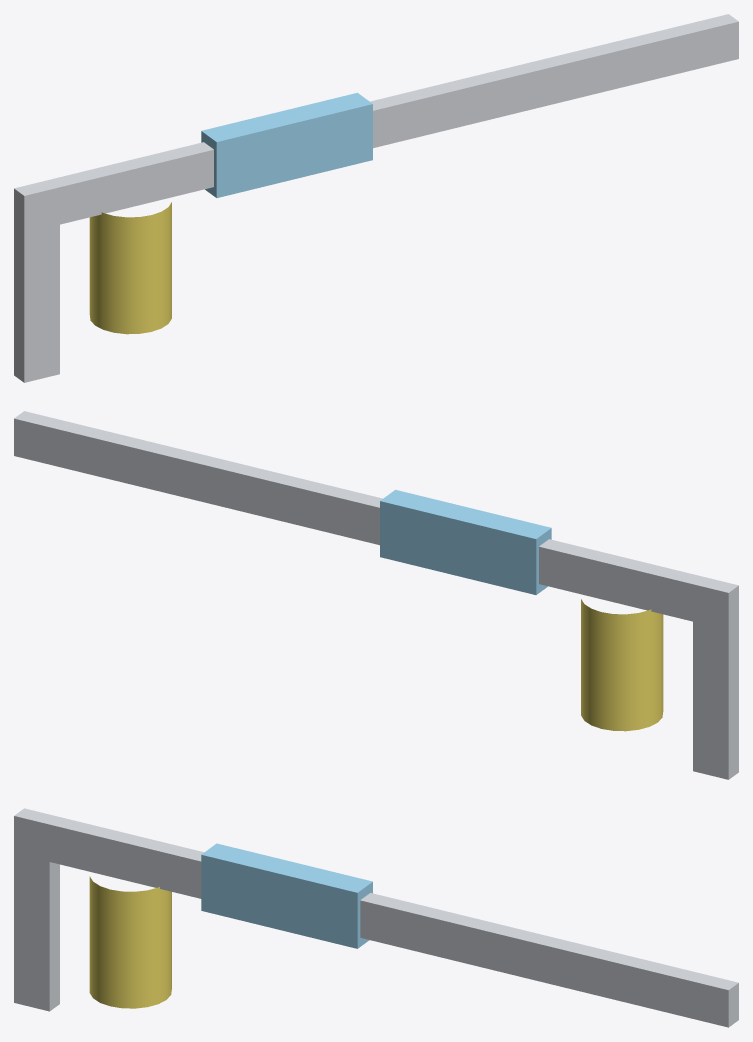
File: vernier_caliper_volume_measurement.glb
3 renders of one model, top to bottom at view 1: azimuth 30°, elevation 25°; view 2: azimuth 150°, elevation 25°; view 3: azimuth 330°, elevation 25°, orthographic.
Visible parts, largest first — view 1: StainlessSteelMainScaleBeam, SlidingVernierScaleSlider, TestHollowCylinderSpecimen, FixedExternalMeasuringJaw; view 2: StainlessSteelMainScaleBeam, SlidingVernierScaleSlider, TestHollowCylinderSpecimen, FixedExternalMeasuringJaw; view 3: StainlessSteelMainScaleBeam, SlidingVernierScaleSlider, TestHollowCylinderSpecimen, FixedExternalMeasuringJaw.
Part boxes in pixels (left/top/right/bottom): StainlessSteelMainScaleBeam: left=14, top=14, right=738, bottom=233; SlidingVernierScaleSlider: left=201, top=92, right=372, bottom=197; TestHollowCylinderSpecimen: left=89, top=202, right=171, bottom=334; FixedExternalMeasuringJaw: left=14, top=179, right=59, bottom=382; StainlessSteelMainScaleBeam: left=14, top=411, right=738, bottom=629; SlidingVernierScaleSlider: left=380, top=489, right=551, bottom=594; TestHollowCylinderSpecimen: left=581, top=599, right=663, bottom=731; FixedExternalMeasuringJaw: left=693, top=576, right=738, bottom=779; StainlessSteelMainScaleBeam: left=14, top=808, right=738, bottom=1027; SlidingVernierScaleSlider: left=201, top=843, right=372, bottom=948; TestHollowCylinderSpecimen: left=89, top=876, right=171, bottom=1008; FixedExternalMeasuringJaw: left=14, top=809, right=59, bottom=1011.
Size of the model in its own units: 1.6 by 0.42 by 0.16.
